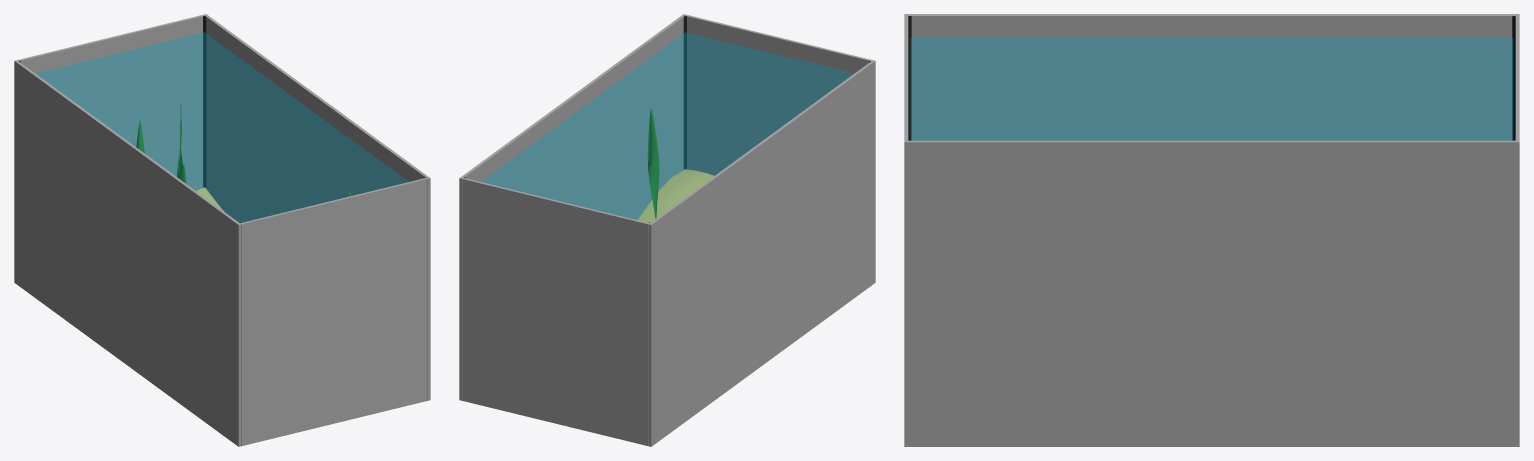
The model's file is Fish_Tank.fbx.
3 renders of one model, left to right at view 1: azimuth 30°, elevation 25°; view 2: azimuth 150°, elevation 25°; view 3: azimuth 270°, elevation 25°, orthographic. The views are drawn at different scales.
Parts seen in each view (by area): view 1: Glass, Water, Tree; view 2: Glass, Water, sand, Tree; view 3: Glass, Water.
Part boxes in pixels (left/top/right/bottom): Glass: left=14, top=14, right=430, bottom=446; Water: left=36, top=32, right=408, bottom=222; Tree: left=136, top=104, right=350, bottom=196; Glass: left=459, top=14, right=875, bottom=446; Water: left=481, top=32, right=853, bottom=221; sand: left=638, top=169, right=713, bottom=222; Tree: left=647, top=109, right=659, bottom=218; Glass: left=904, top=14, right=1519, bottom=446; Water: left=911, top=38, right=1512, bottom=140.
Bounding box in the file's own units: 44.45 × 49.12 × 90.
